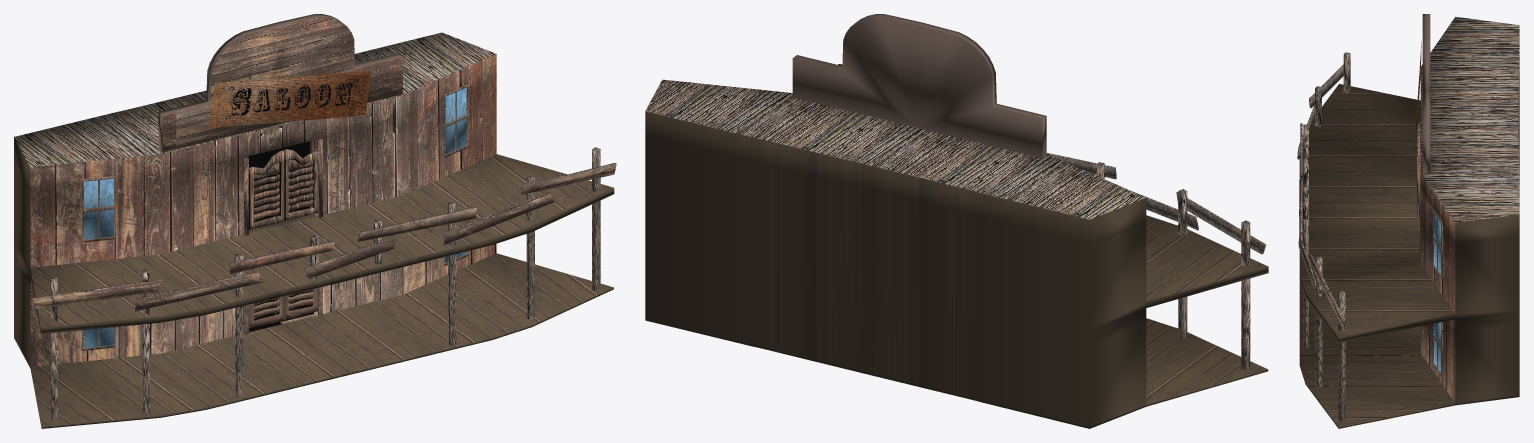
The model's file is saloonHD.fbx.
The picture shows the model from 3 angles, left to right: view 1: azimuth 30°, elevation 25°; view 2: azimuth 150°, elevation 25°; view 3: azimuth 270°, elevation 25°; orthographic projection. The views are drawn at different scales.
Visible parts, largest first — view 1: Plane; view 2: Plane; view 3: Plane.
Boxes of the visible parts, bbox=[...] form: Plane: bbox=[14, 14, 616, 428]; Plane: bbox=[645, 14, 1268, 428]; Plane: bbox=[1297, 14, 1519, 428].
Bounding box in the file's own units: 5486 × 2704 × 2005.
Materials: 6 (6 with a texture image).
